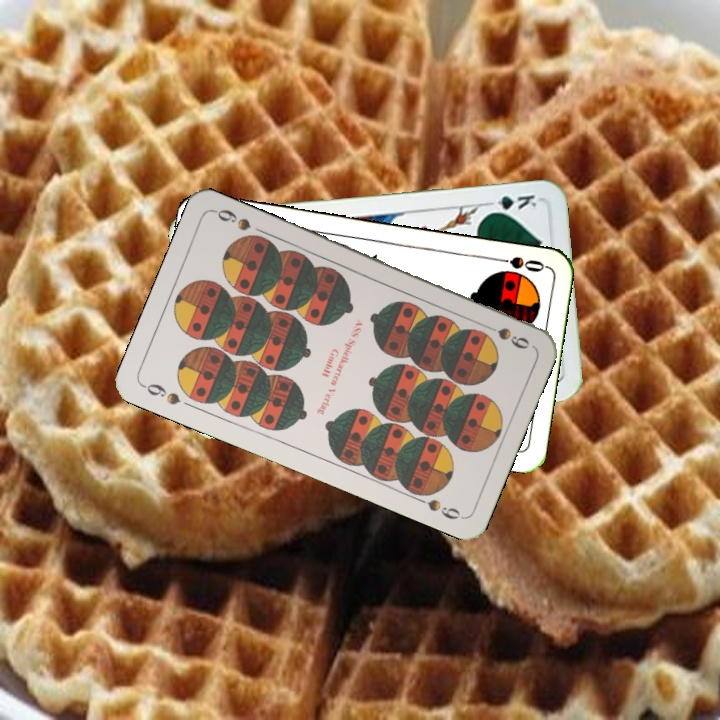GK: (482, 190, 539, 216)
S9: (477, 319, 532, 352), (138, 379, 183, 408)
SO: (489, 252, 548, 275)
